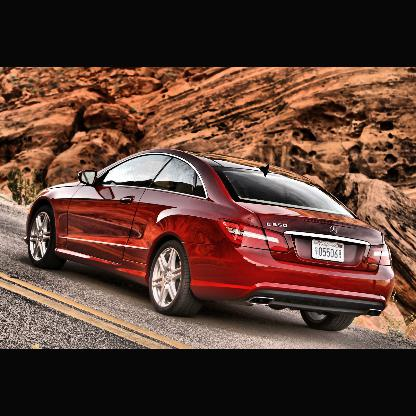Mercedes-Benz E-Class Sedan 2012: (21, 147, 397, 333)
